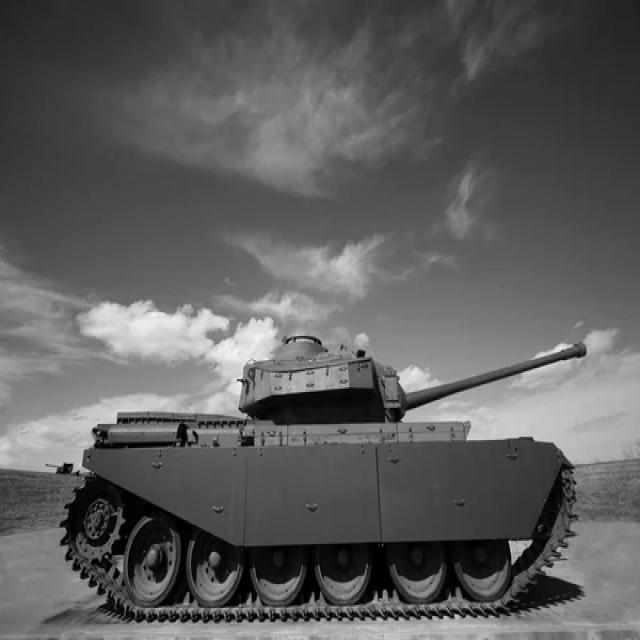Tank: (51, 294, 590, 626)
